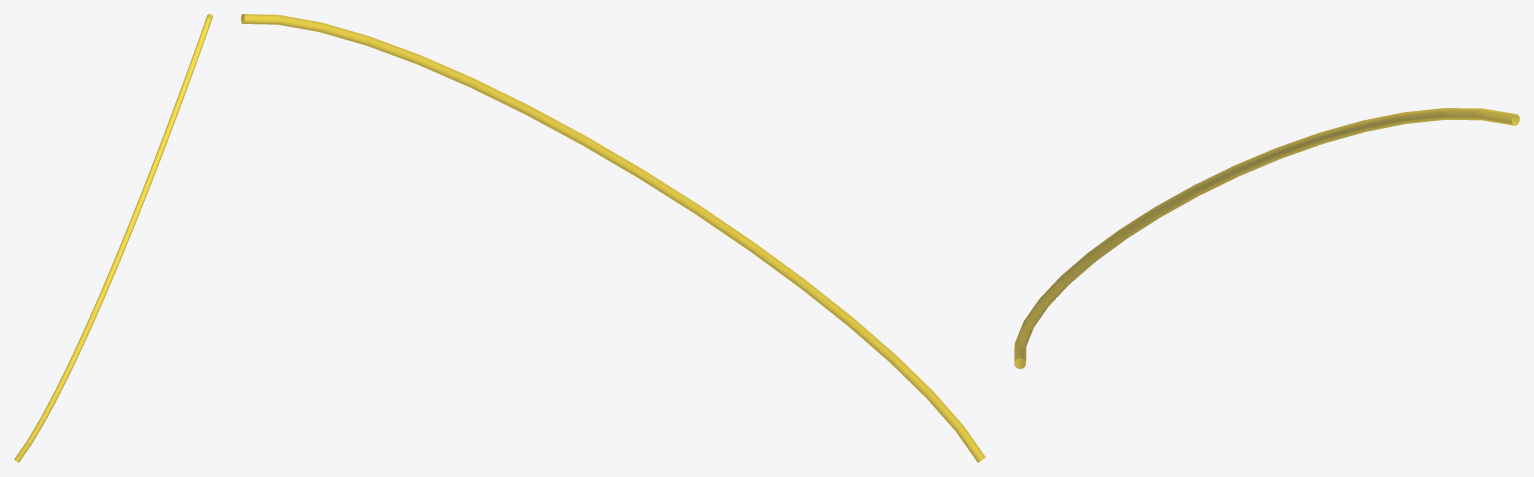
The model's file is Event_27938768_track_28.fbx.
3 renders of one model, left to right at view 1: azimuth 30°, elevation 25°; view 2: azimuth 150°, elevation 25°; view 3: azimuth 270°, elevation 25°, orthographic. The views are drawn at different scales.
Visible parts, largest first — view 1: Model; view 2: Model; view 3: Model.
Part boxes in pixels (x1,y1,x2,y2): Model: (14,14,212,462); Model: (241,14,985,462); Model: (1014,108,1519,368).
Bounding box in the file's own units: 2.49 × 2.08 × 1.7.
